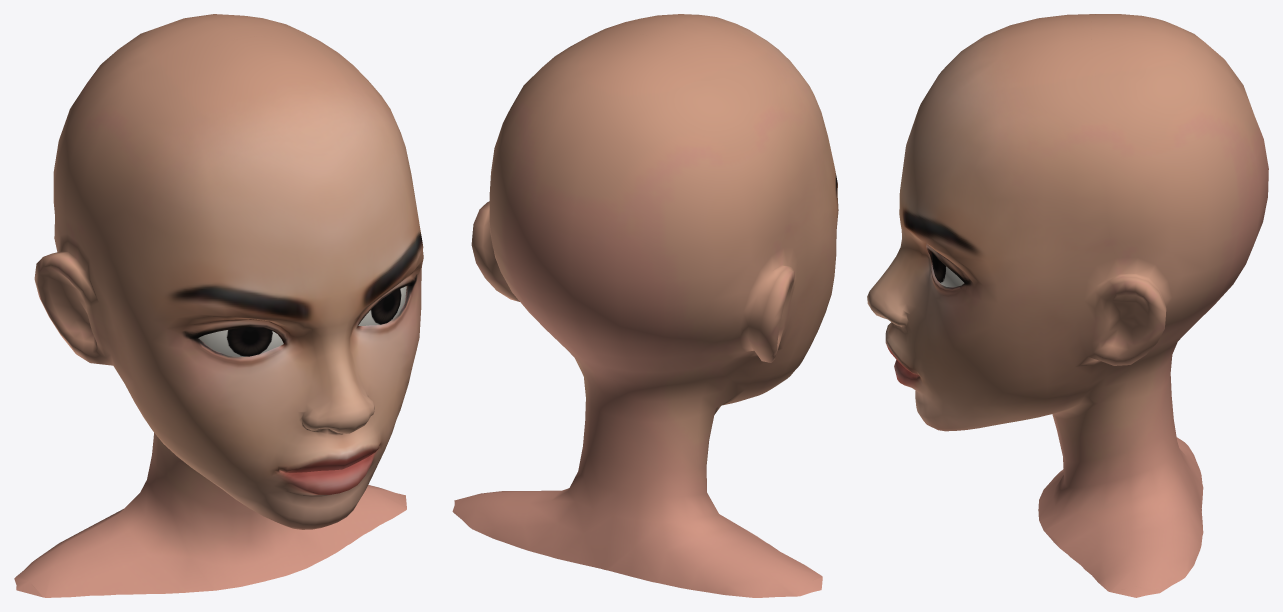
File: latino_female_loPoly_0001_grp_head.glb
3 renders of one model, left to right at view 1: azimuth 30°, elevation 25°; view 2: azimuth 150°, elevation 25°; view 3: azimuth 270°, elevation 25°, orthographic. The views are drawn at different scales.
Visible parts, largest first — view 1: latino_female_loPoly_body_0001_geo, eye_R_0001_geo, eye_L_0001_geo; view 2: latino_female_loPoly_body_0001_geo; view 3: latino_female_loPoly_body_0001_geo, eye_L_0001_geo.
Part boxes in pixels (x1,y1,x2,y2): latino_female_loPoly_body_0001_geo: (14, 14, 423, 597); eye_R_0001_geo: (198, 327, 283, 356); eye_L_0001_geo: (358, 286, 406, 325); latino_female_loPoly_body_0001_geo: (452, 14, 838, 597); latino_female_loPoly_body_0001_geo: (867, 14, 1268, 597); eye_L_0001_geo: (932, 252, 964, 287).
Bounding box in the file's own units: 0.2696 × 0.3448 × 0.2606.
Materials: 3 (2 with a texture image).
